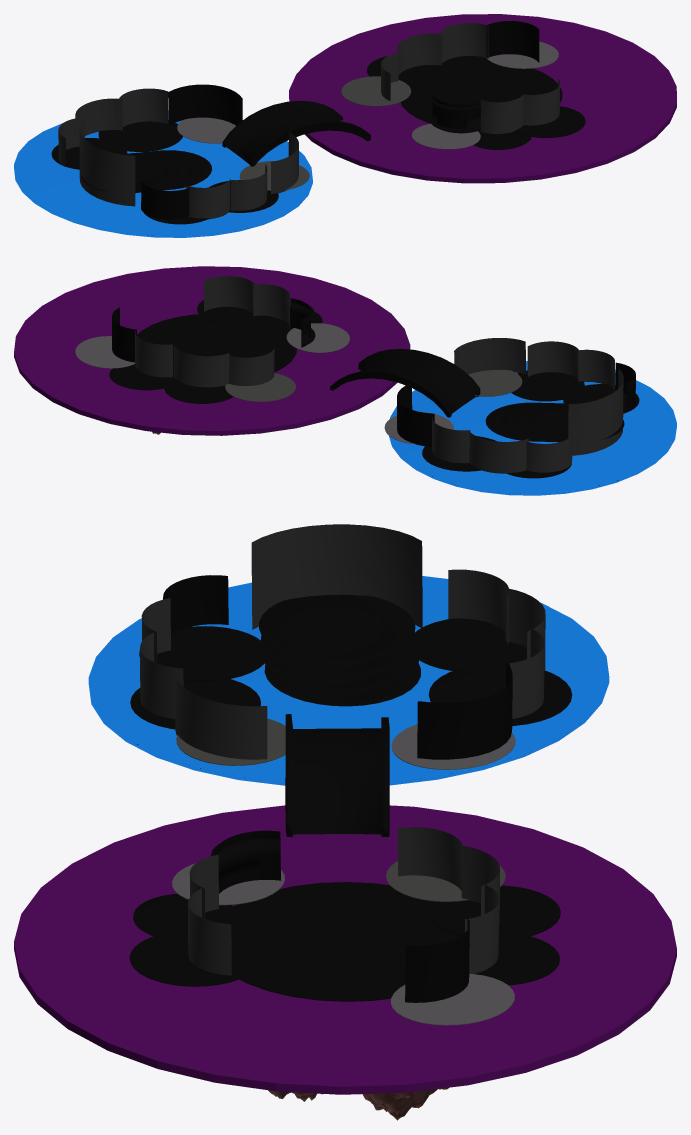
The model's file is GALERIADUPLACHACKRAS.glb.
3 renders of one model, top to bottom at view 1: azimuth 30°, elevation 25°; view 2: azimuth 150°, elevation 25°; view 3: azimuth 270°, elevation 25°, orthographic. The views are drawn at different scales.
Parts seen in each view (by area): view 1: Cylinder.056; view 2: Cylinder.056; view 3: Cylinder.056.
Boxes of the visible parts, x1,y1,x2,y2 form: Cylinder.056: [14, 14, 676, 237]; Cylinder.056: [14, 266, 676, 495]; Cylinder.056: [14, 524, 676, 1120].
Size of the model in its own units: 30.59 by 6.51 by 16.75.
